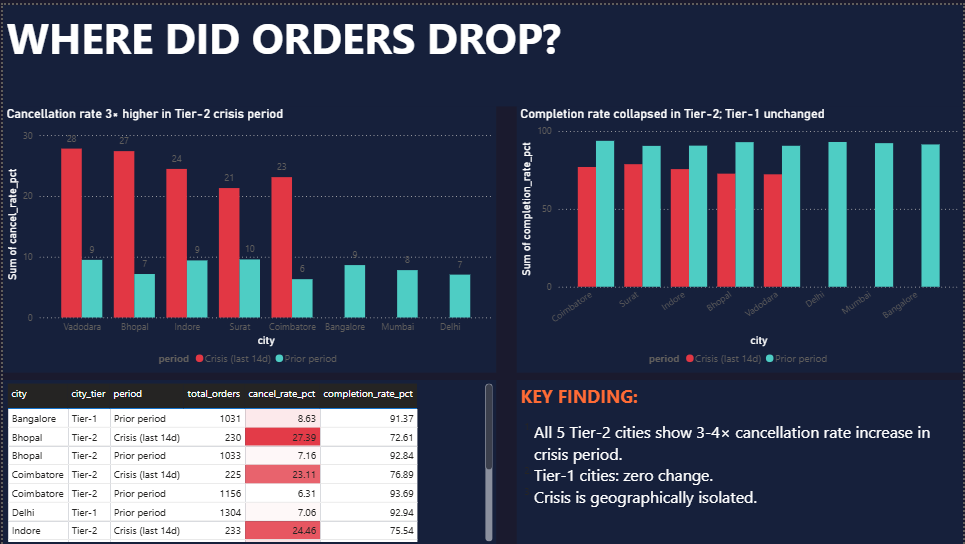

What the dashboard file says about the page in this screenshot:
{"tool":"powerbi","page":{"name":"WHERE","canvas":[1280,720],"ordinal":1},"visuals":[{"type":"textbox","box":[0,0,1280,135],"z":0},{"type":"clusteredColumnChart","title":"Cancellation rate 3× higher in Tier-2 crisis period","fields":{"Series":["pivot2_kpi_by_city_period.period"],"Y":["Sum(pivot2_kpi_by_city_period.cancel_rate_pct)"],"Category":["pivot2_kpi_by_city_period.city"]},"box":[0,135,657.5,355],"z":1000},{"type":"clusteredColumnChart","title":"Completion rate collapsed in Tier-2; Tier-1 unchanged","fields":{"Category":["pivot2_kpi_by_city_period.city"],"Y":["Sum(pivot2_kpi_by_city_period.completion_rate_pct)"],"Series":["pivot2_kpi_by_city_period.period"]},"box":[685,135,595,355],"z":2000},{"type":"tableEx","fields":{"Values":["pivot2_kpi_by_city_period.city","pivot2_kpi_by_city_period.city_tier","pivot2_kpi_by_city_period.period","pivot2_kpi_by_city_period.total_orders","pivot2_kpi_by_city_period.cancel_rate_pct","pivot2_kpi_by_city_period.completion_rate_pct"]},"box":[0,500,657.5,220],"z":3000},{"type":"textbox","box":[685,500,595,220],"z":4000}]}

Visuals, with their boxes in screenshot pixels (x1, y1, x2, y2), scaled from the page's 1280x720 canvas onto the 965x544 screenshot:
textbox: 0 0 964 102
"Cancellation rate 3× higher in Tier-2 crisis period" clusteredColumnChart: 0 102 496 370
"Completion rate collapsed in Tier-2; Tier-1 unchanged" clusteredColumnChart: 516 102 964 370
tableEx - pivot2_kpi_by_city_period.city x pivot2_kpi_by_city_period.city_tier: 0 378 496 543
textbox: 516 378 964 543
